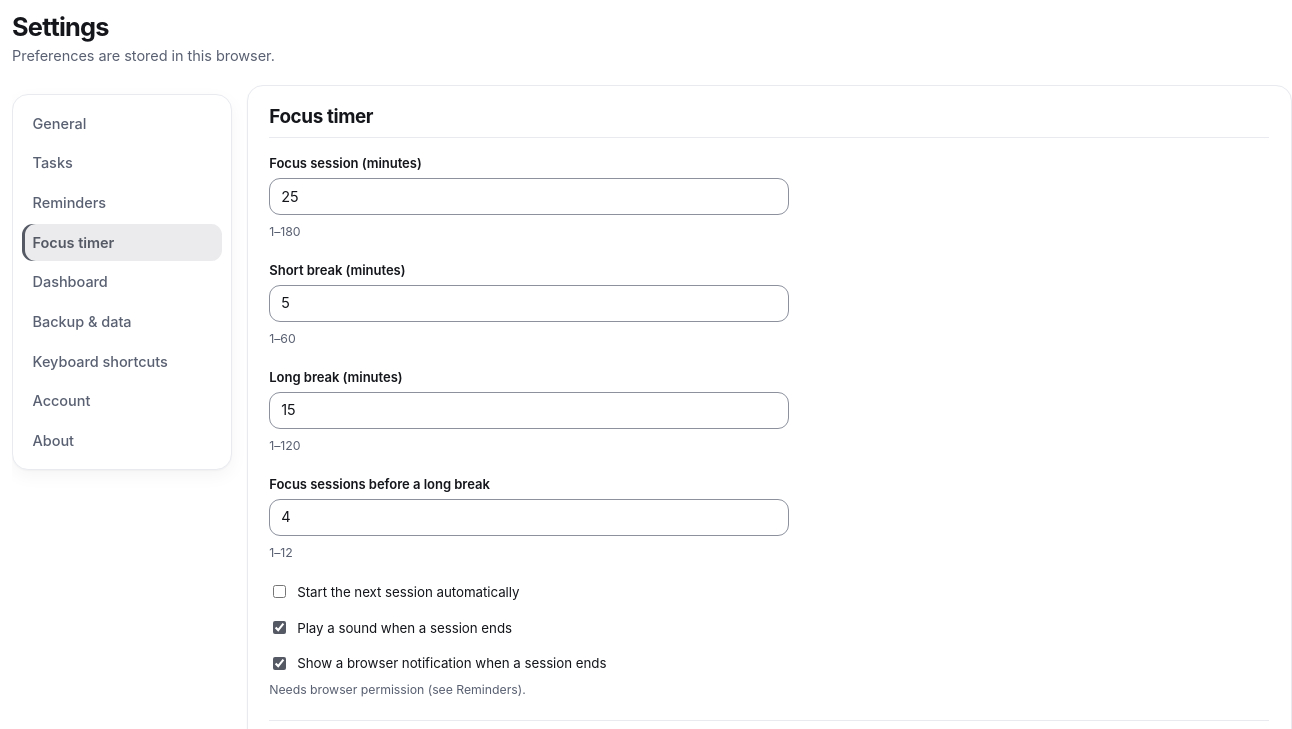
Test: focus timer › rejects Focus session (minutes) = 0 and keeps the stored value
Replace the text in the number field labelled "Focus session (minutes)" with "0" at x=529, y=196, box [269, 178, 789, 215]
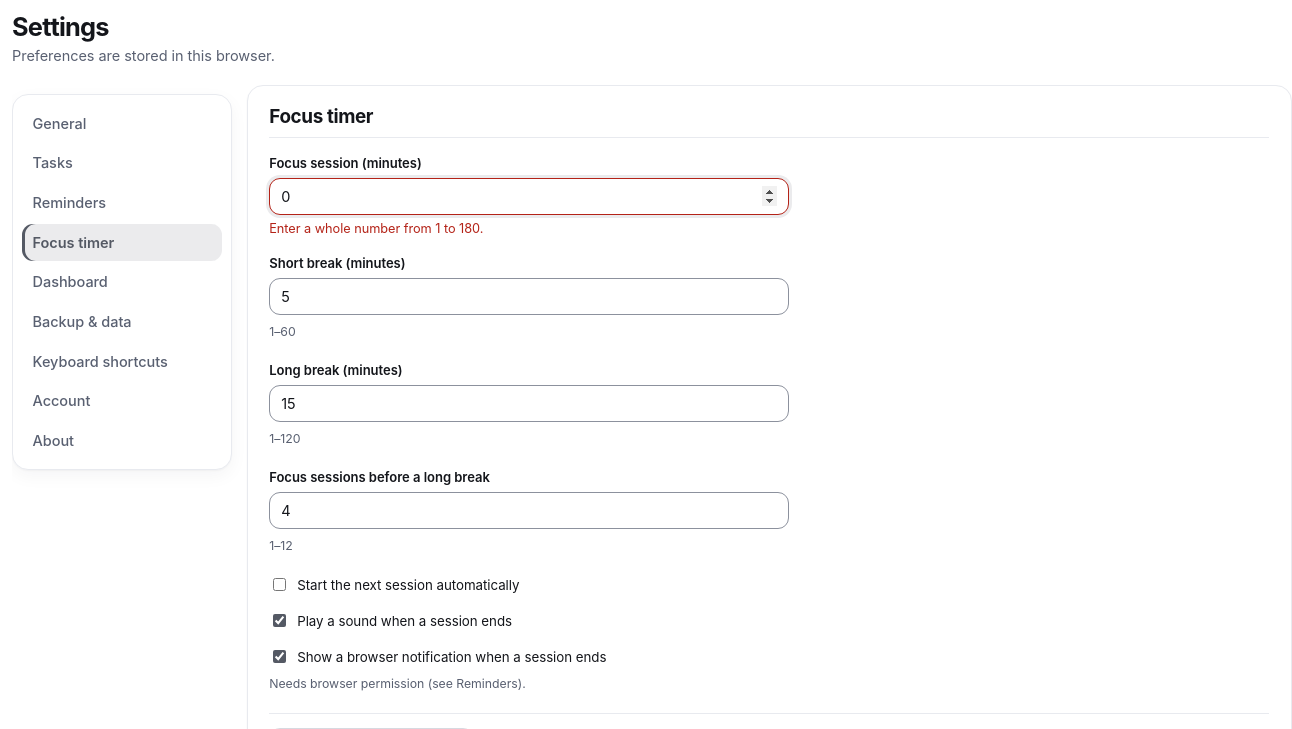
Expected: the number field labelled "Focus session (minutes)" is marked as invalid, [269, 178, 789, 215]
Press Tab
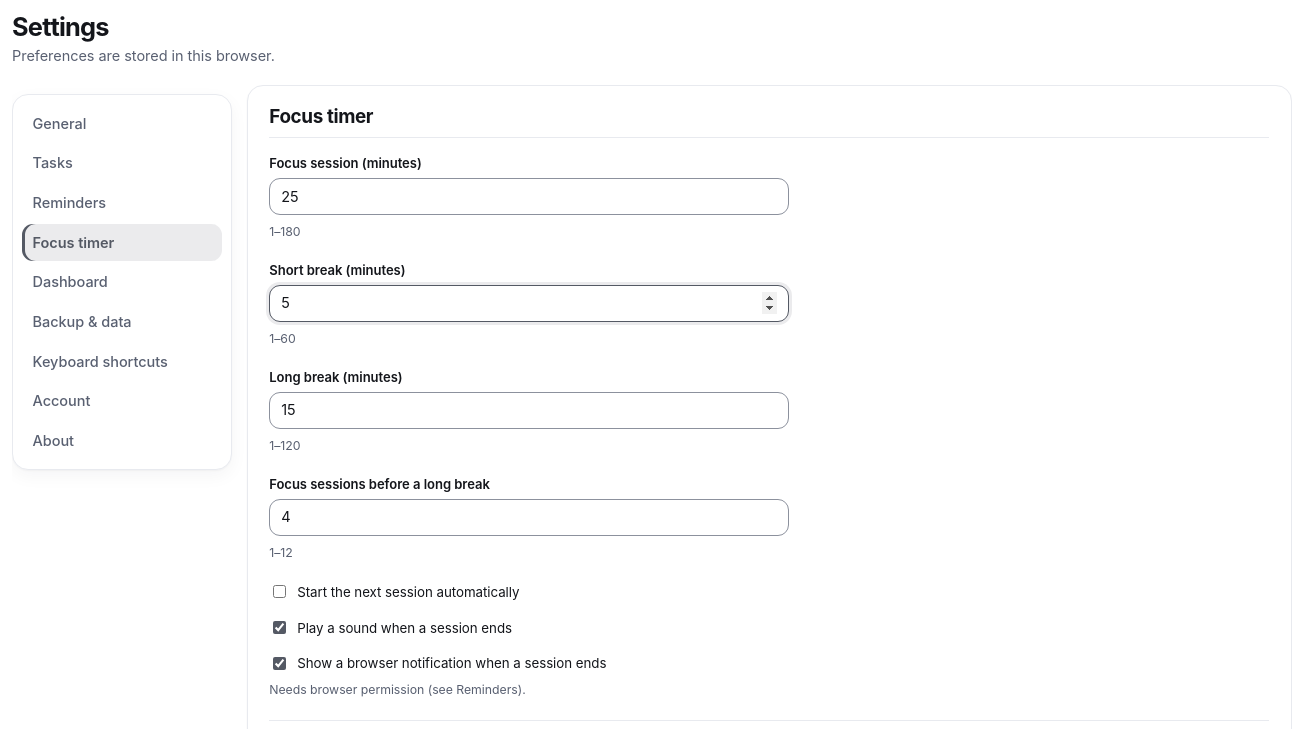
Expected: the number field labelled "Focus session (minutes)" holds "25", [269, 178, 789, 215]
